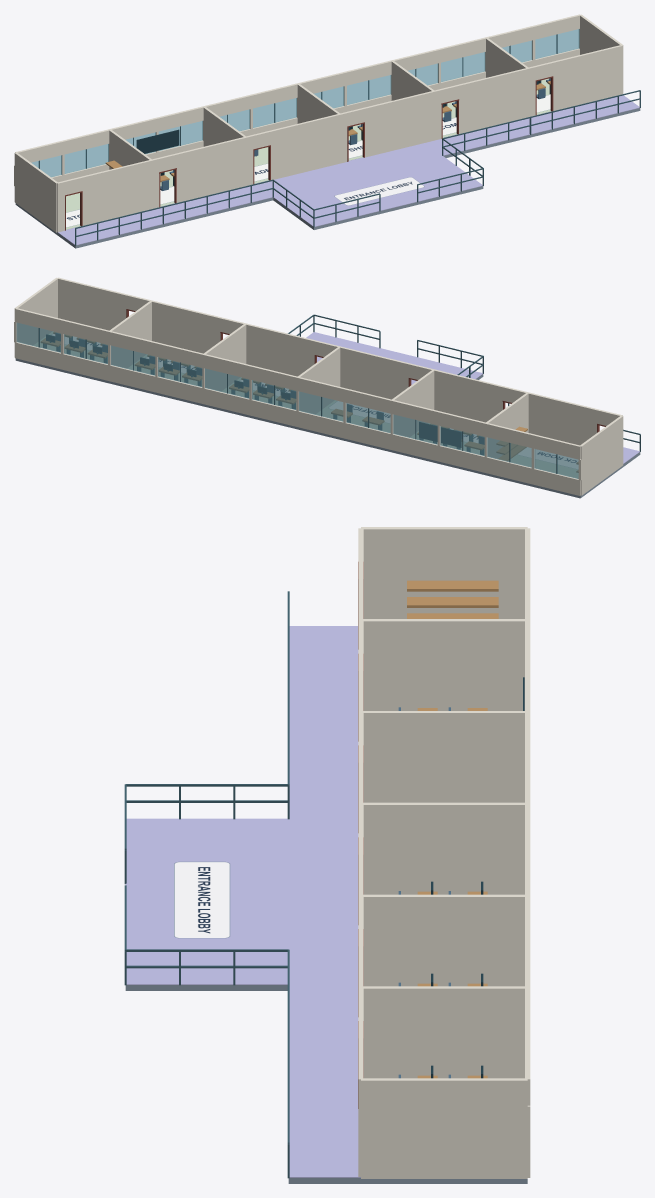
Rendered from admin-rooms.glb.
3 views of the same model, one above another, from view 1: azimuth 30°, elevation 25°; view 2: azimuth 150°, elevation 25°; view 3: azimuth 270°, elevation 25° (orthographic). The views are drawn at different scales.
Visible parts, largest first — view 1: front-wall (×12), corridor, partition (×7), window-head-wall (×6), window (×11), central-landing, window-sill-wall (×6), floor-slab, guardrail (×4), label-0-lobby, teaching-board; view 2: front-wall (×6), window (×12), partition (×7), window-sill-wall (×6), window-head-wall (×6), floor-slab, central-landing, room-floor (×2), teaching-board, label-0-admin-f0-stock-room, label-0-admin-f0-admin-office; view 3: partition (×7), corridor, central-landing, label-0-lobby, floor-slab, storage-shelf (×2).
Boxes of the visible parts, x1,y1,x2,y2 form: front-wall (×12): (57,45,622,232); corridor: (57,95,639,245); partition (×7): (14,14,623,232); window-head-wall (×6): (15,14,580,162); window (×11): (31,29,579,177); central-landing: (273,156,482,226); window-sill-wall (×6): (51,48,579,182); floor-slab: (15,108,640,248); guardrail (×4): (75,90,640,236); label-0-lobby: (334,177,424,205); teaching-board: (136,129,179,153); front-wall (×6): (58,277,598,445); window (×12): (16,322,578,478); partition (×7): (14,277,623,495); window-sill-wall (×6): (15,342,580,495); window-head-wall (×6): (15,308,580,459); floor-slab: (15,358,640,498); central-landing: (306,332,482,384); room-floor (×2): (316,400,578,477); teaching-board: (419,422,461,447); label-0-admin-f0-stock-room: (518,447,578,468); label-0-admin-f0-admin-office: (329,401,390,423); partition (×7): (361,527,527,1178); corridor: (288,626,360,1177); central-landing: (125,818,288,984); label-0-lobby: (174,861,230,938); floor-slab: (125,985,527,1183); storage-shelf (×2): (407,580,498,607).
Size of the model in its own units: 36.15 by 3.18 by 11.2.
17 materials, 7 textured.
